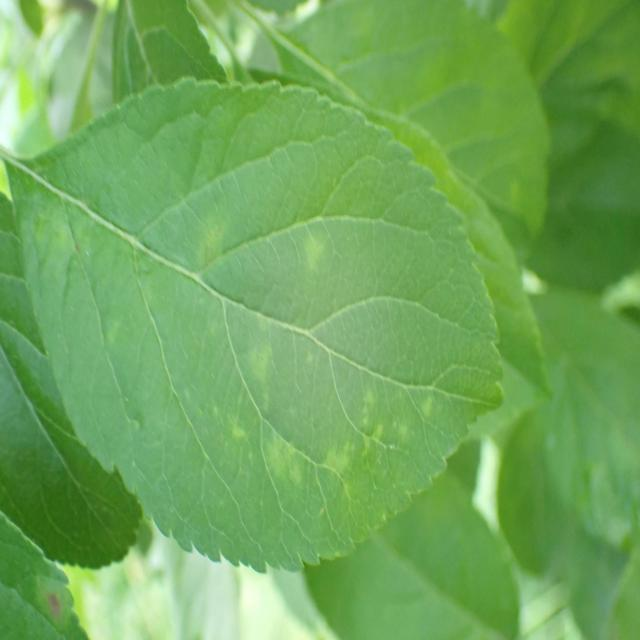scab: (27, 143, 458, 516)
